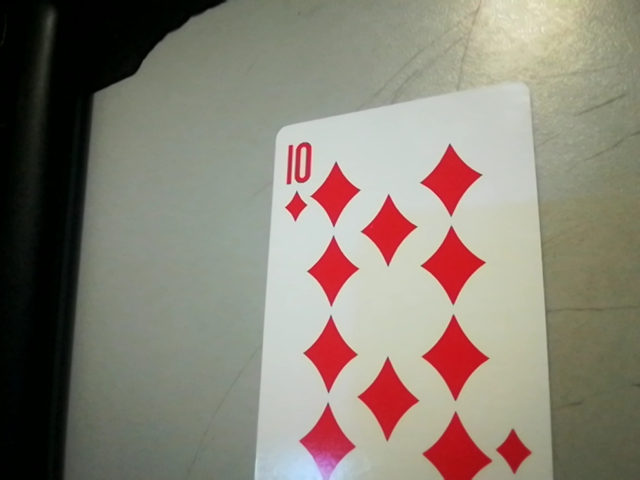fk 10: (269, 130, 321, 227)
